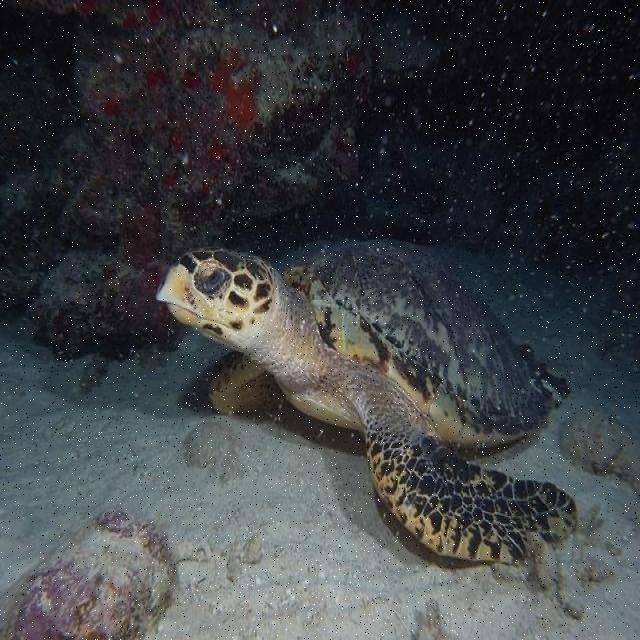fish: (155, 240, 578, 566)
sea-floor: (0, 0, 501, 361), (14, 510, 178, 638), (561, 402, 639, 496)
